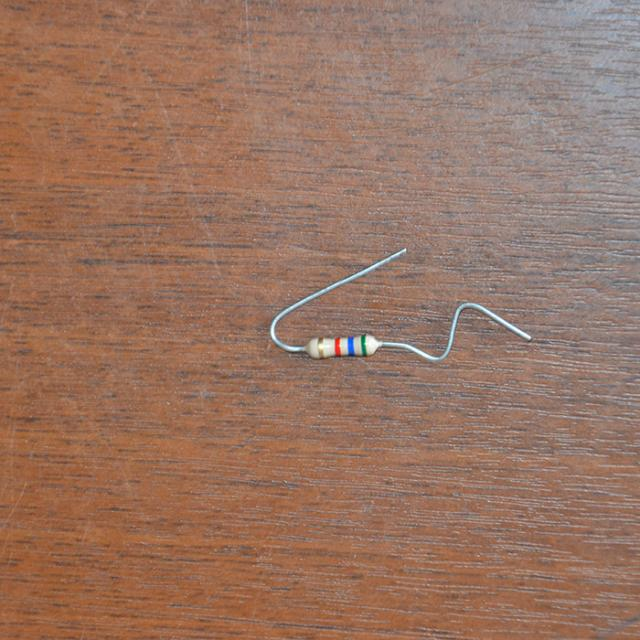blue: (347, 337, 354, 354)
gold: (318, 339, 323, 358)
green: (361, 335, 367, 354)
red: (335, 339, 340, 355)
resistor: (301, 326, 383, 367)
